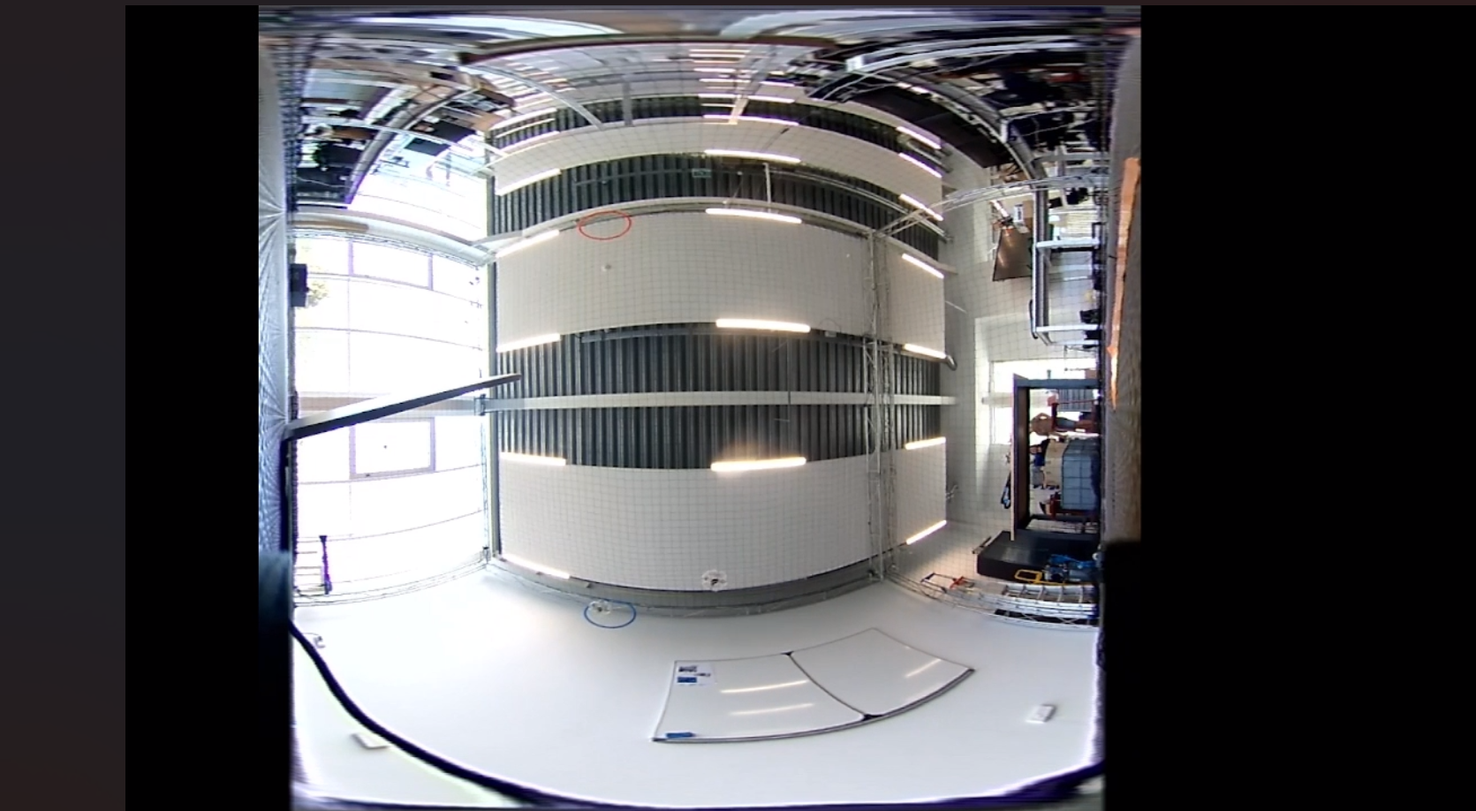Drone: (702, 570, 731, 594), (589, 598, 612, 619)
